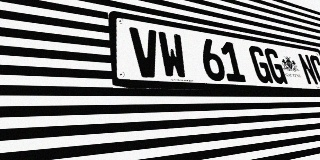1: (218, 40, 246, 82)
6: (198, 37, 227, 81)
C: (308, 55, 320, 86)
G: (248, 45, 274, 83), (263, 47, 288, 84)
N: (297, 53, 319, 86)
V: (129, 26, 163, 78)
W: (157, 31, 189, 79)
